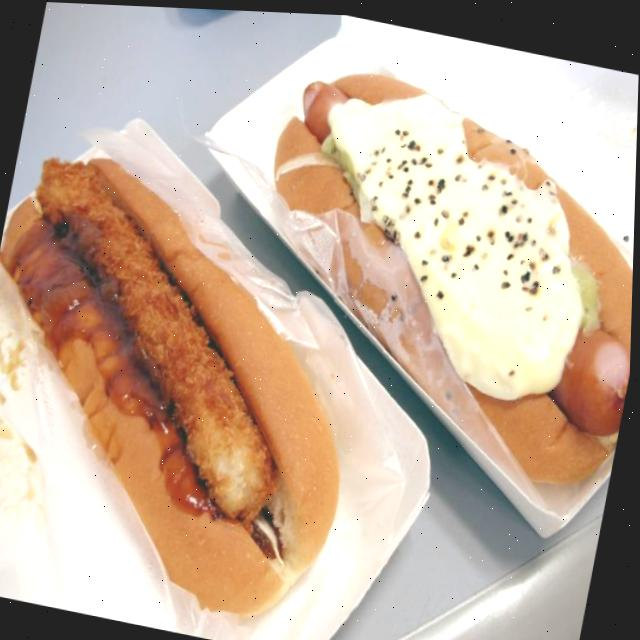三明治: (0, 148, 408, 640)
汉堡快餐: (234, 65, 639, 530)
